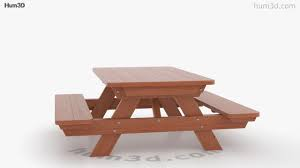obstacle: (54, 62, 260, 164)
